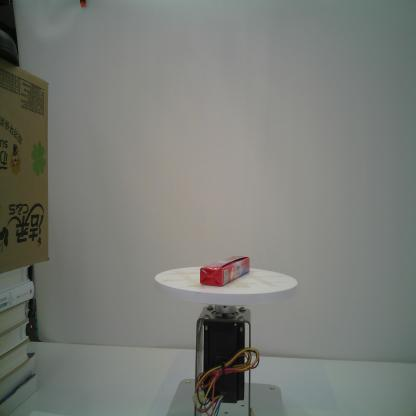Candy: (199, 255, 251, 287)
